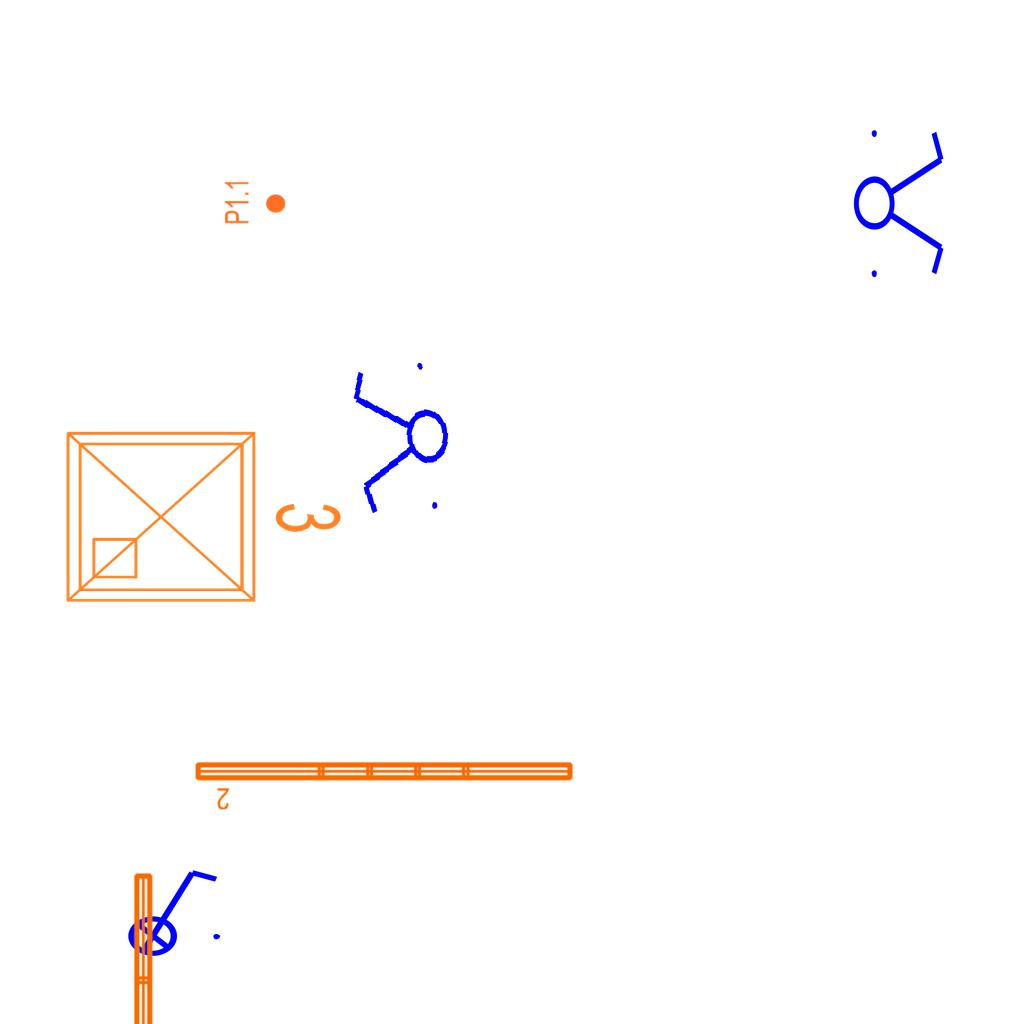Ambulanz_Pendelleuchte_LED: (191, 756, 578, 812), (128, 868, 184, 1024)
Ausschalter_beleuchtet: (114, 862, 226, 958)
Downlight_LED_Einbauleuchten_Flur: (223, 179, 287, 225)
Einbaudownlights_LED_Konferenzraeume: (52, 409, 352, 617)
Serienschalter: (345, 351, 459, 529), (852, 118, 948, 286)
